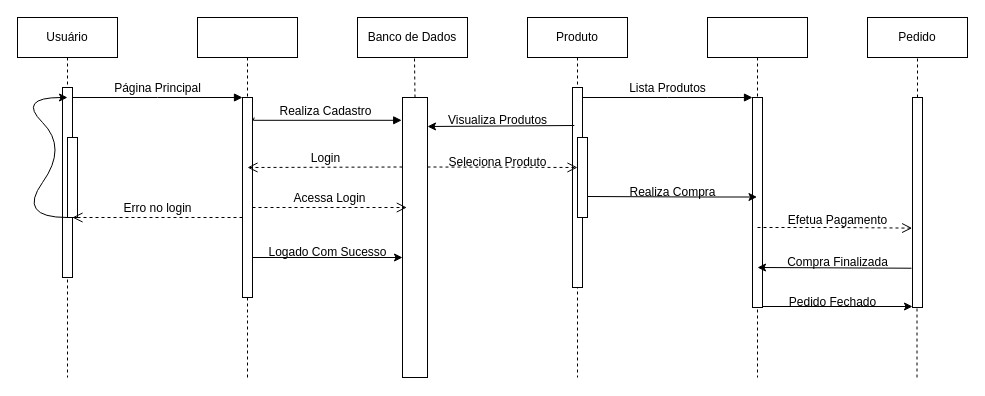
Image size: 985x396. Some labels were removed from this diagram. Each missing label, with the box of its shape:
Cadastro: (196, 16, 298, 318)
Venda: (706, 16, 808, 378)
